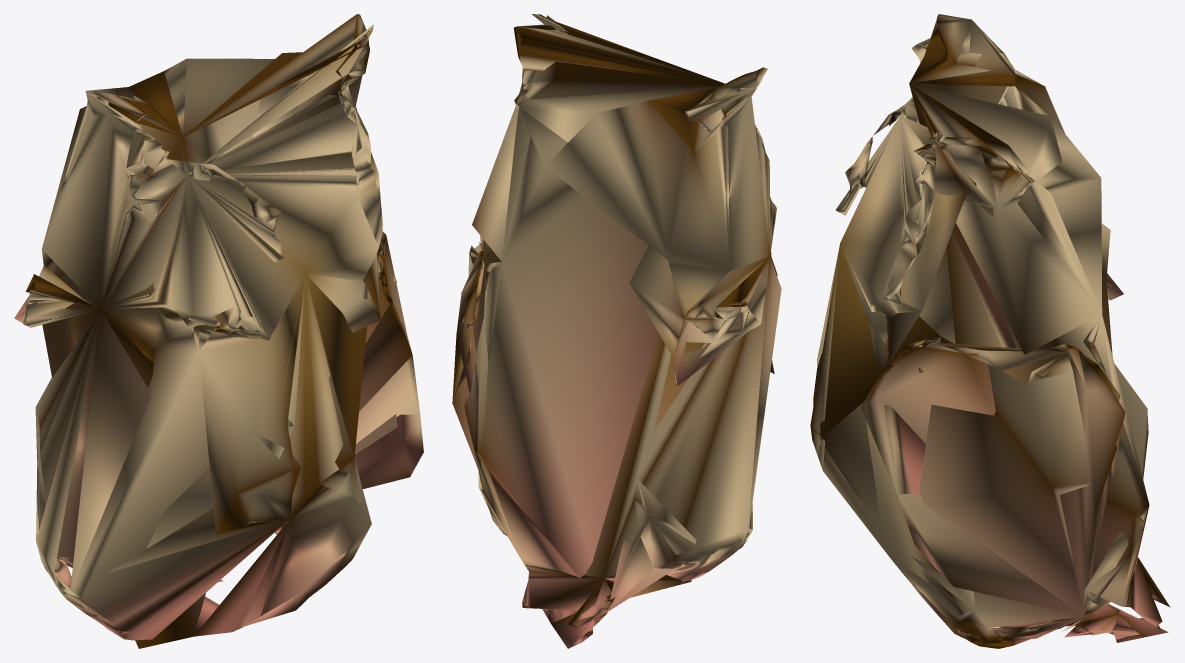
The model's file is gen3d-brown-owl-lod1.glb.
3 views of the same model, side by side, from view 1: azimuth 30°, elevation 25°; view 2: azimuth 150°, elevation 25°; view 3: azimuth 270°, elevation 25° (orthographic). The views are drawn at different scales.
Parts seen in each view (by area): view 1: part_0; view 2: part_0; view 3: part_0.
Part boxes in pixels (box(x1,y1,x2,y2)): part_0: box(14, 14, 423, 648); part_0: box(452, 14, 781, 648); part_0: box(810, 14, 1170, 648).
Bounding box in the file's own units: 0.596 × 1 × 0.5729.
